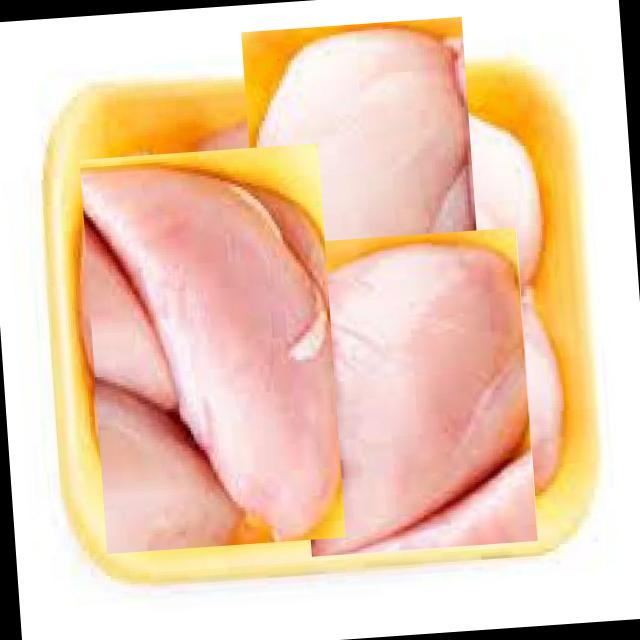chicken: (78, 142, 346, 554), (207, 49, 520, 362), (270, 248, 558, 536)
